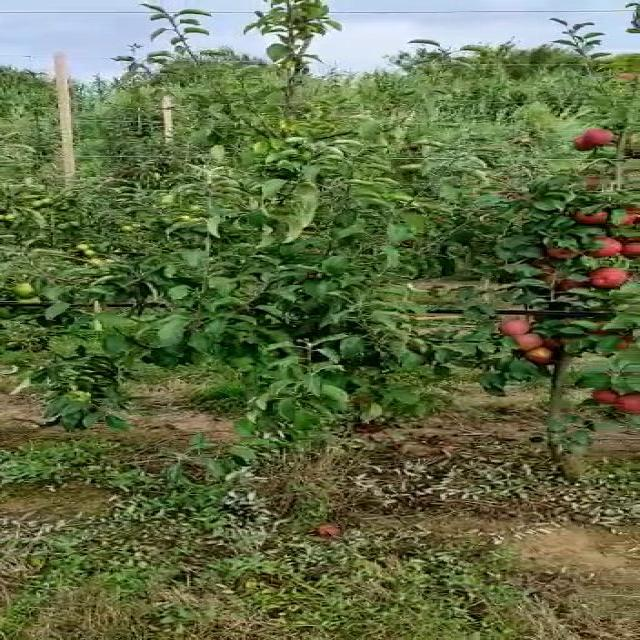100-_ripeness: (586, 268, 624, 288), (585, 238, 622, 258), (540, 239, 578, 258), (511, 332, 547, 350), (574, 208, 611, 225), (526, 347, 554, 367), (587, 387, 622, 403), (585, 129, 613, 146), (567, 135, 593, 150), (616, 394, 640, 410), (502, 321, 531, 334), (620, 209, 640, 227), (623, 241, 640, 254), (536, 267, 553, 280)
